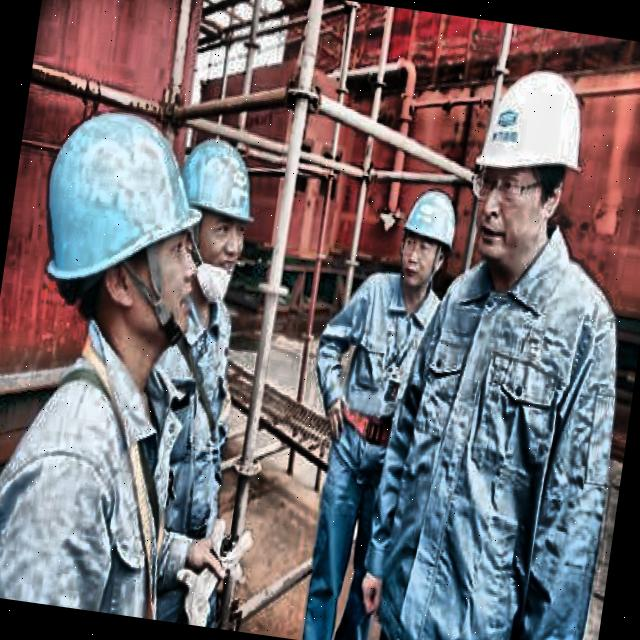helmet: (15, 81, 226, 372), (462, 68, 594, 279), (164, 129, 266, 287), (390, 178, 466, 300)
